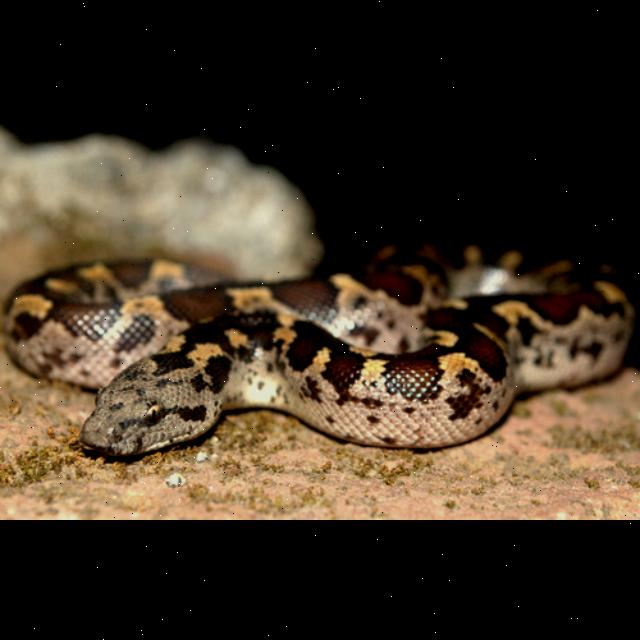snake: (1, 246, 636, 464)
